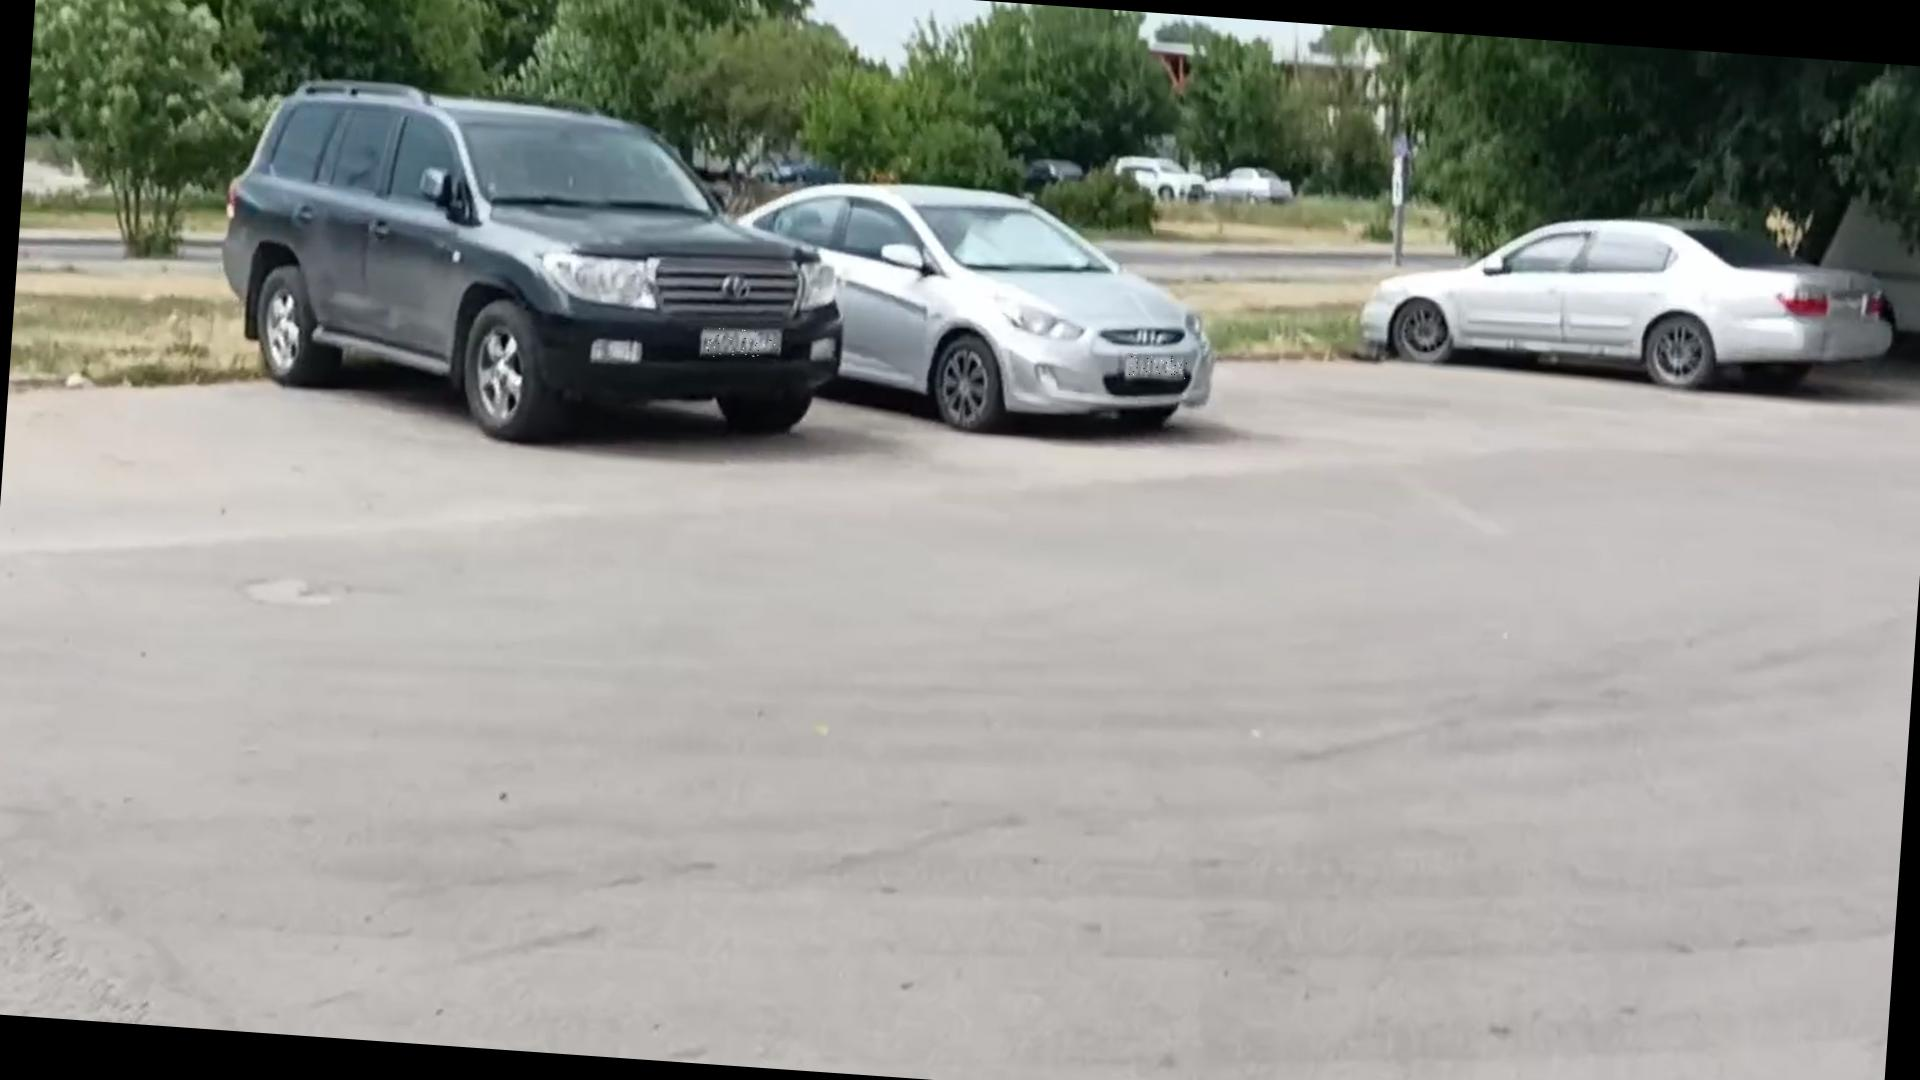plate: (703, 328, 781, 364), (1127, 354, 1188, 380)
